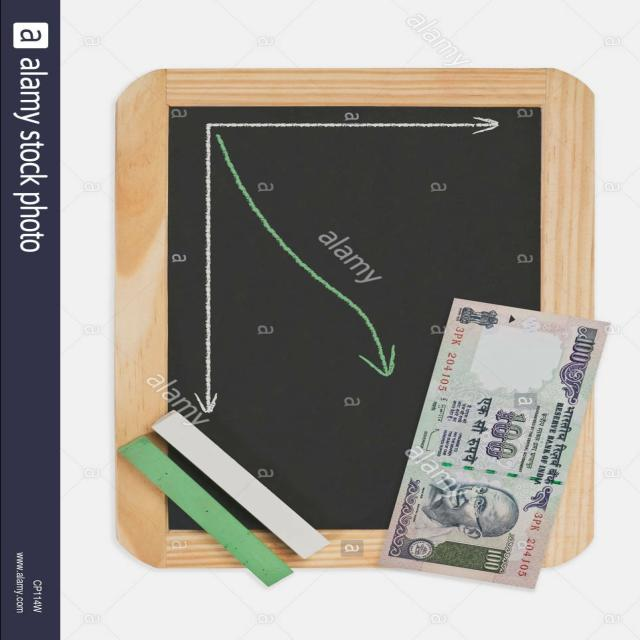100IndianRupees: (377, 297, 612, 590)
